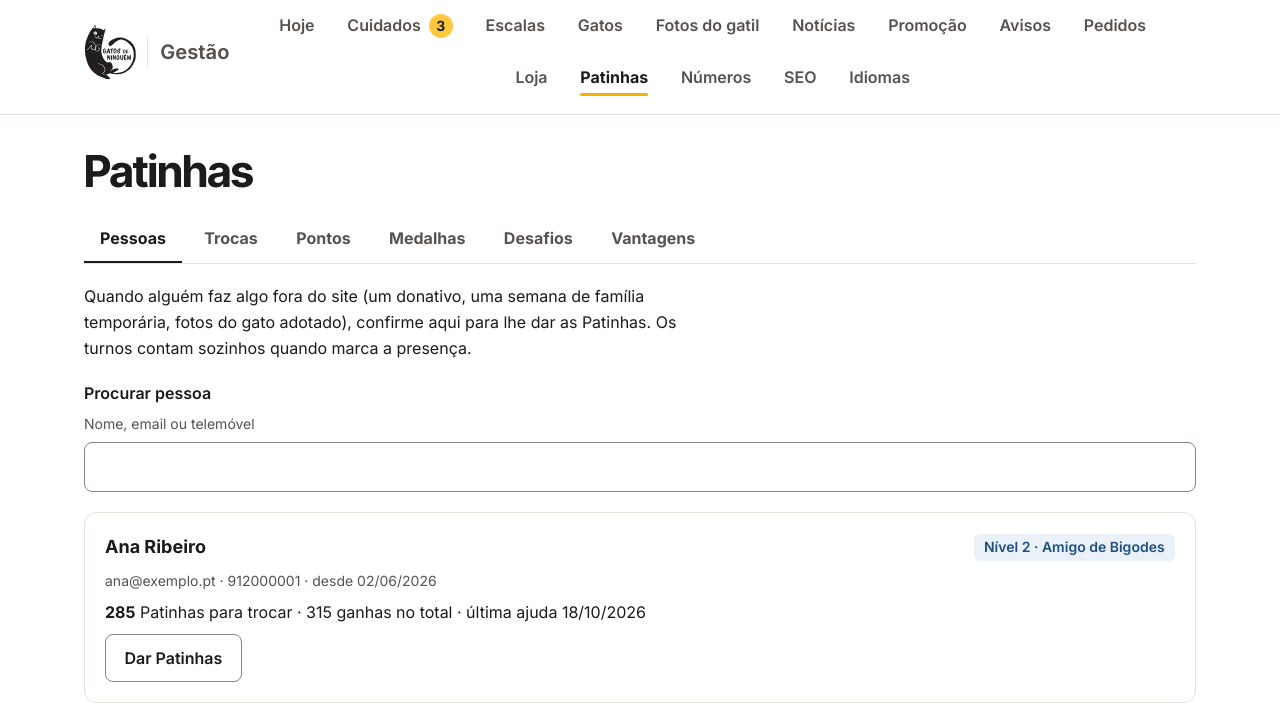
Test case: Patinhas › changes how many Patinhas an action is worth
Step 1. Click the tab "Pontos" → (323, 239), box [280,215,367,263]
(page scrolled)
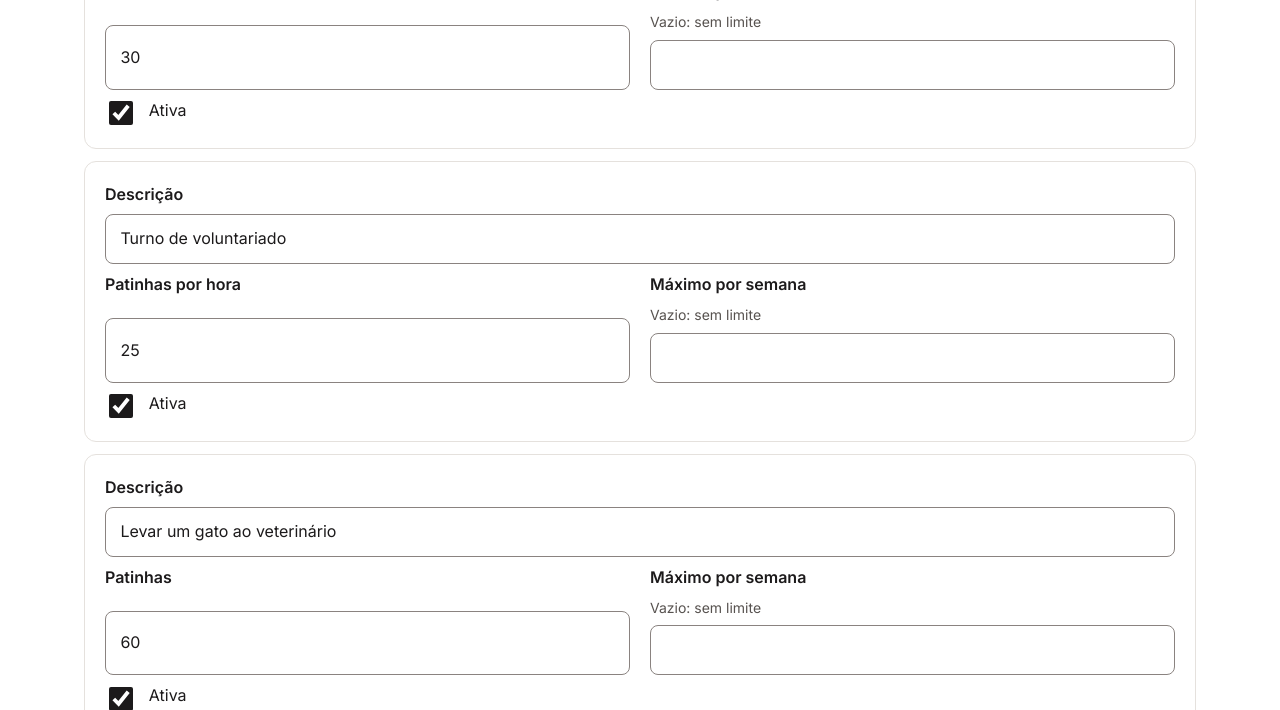
Step 2. Replace the text in the field labelled "Patinhas por hora" with "30" → (368, 350), box [105,318,630,383]
(page scrolled)
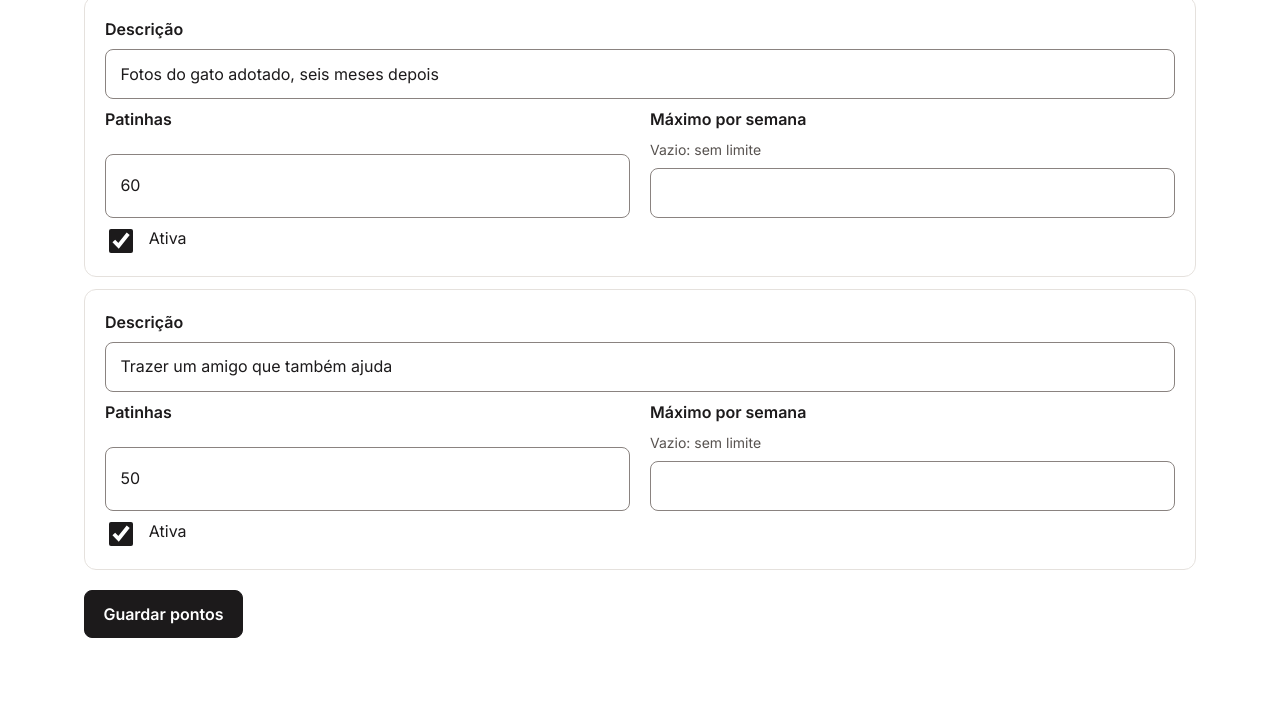
Step 3. Click the button "Guardar pontos" → (163, 614), box [84,590,243,638]
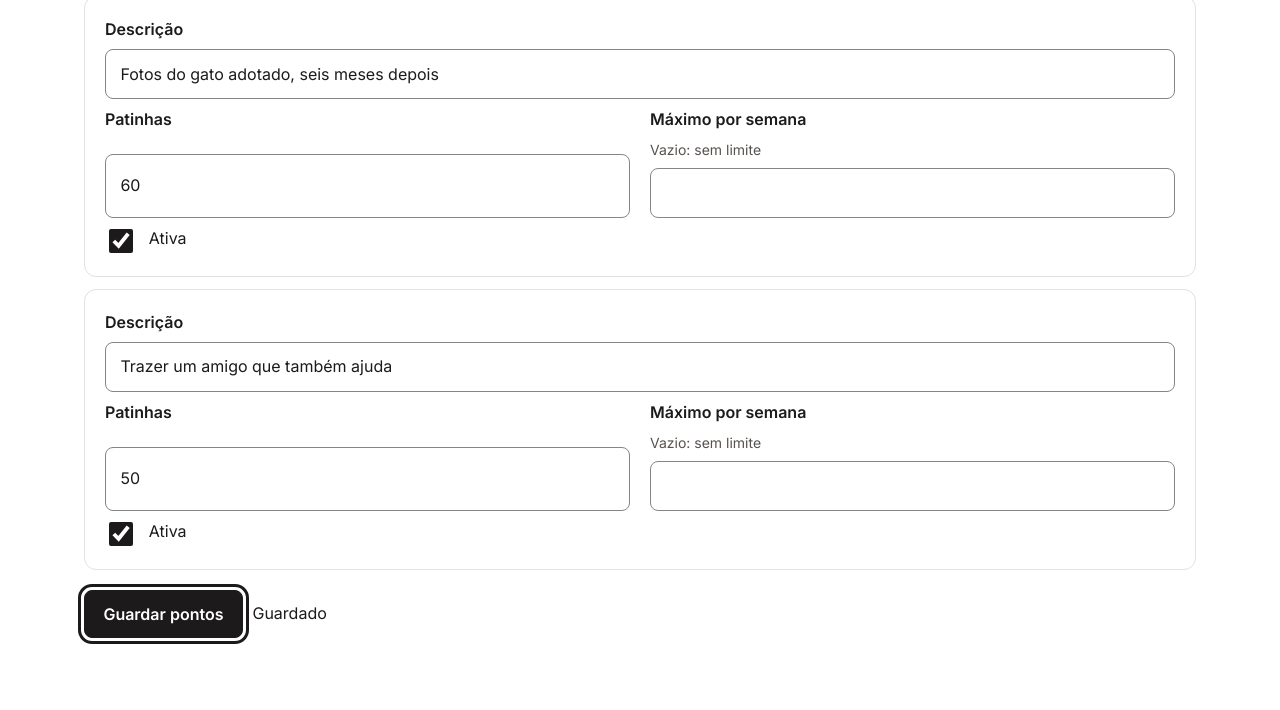
Expected: the text "Guardado" is shown, [252,601,327,627]
